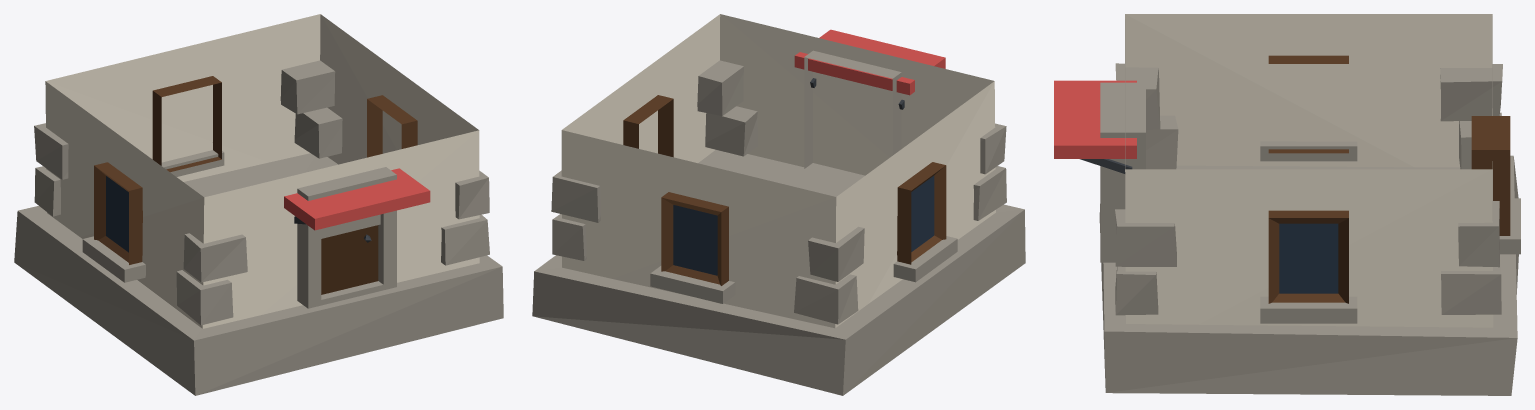
Rendered from tower_base.glb.
The picture shows the model from 3 angles, left to right: view 1: azimuth 30°, elevation 25°; view 2: azimuth 150°, elevation 25°; view 3: azimuth 270°, elevation 25°; orthographic projection. The views are drawn at different scales.
Parts seen in each view (by area): view 1: tower_base; view 2: tower_base; view 3: tower_base.
Boxes of the visible parts, left/top/right/bottom form: tower_base: left=14, top=14, right=503, bottom=395; tower_base: left=532, top=14, right=1025, bottom=395; tower_base: left=1054, top=14, right=1520, bottom=395.
Size of the model in its own units: 0.716 by 0.4 by 0.788.
